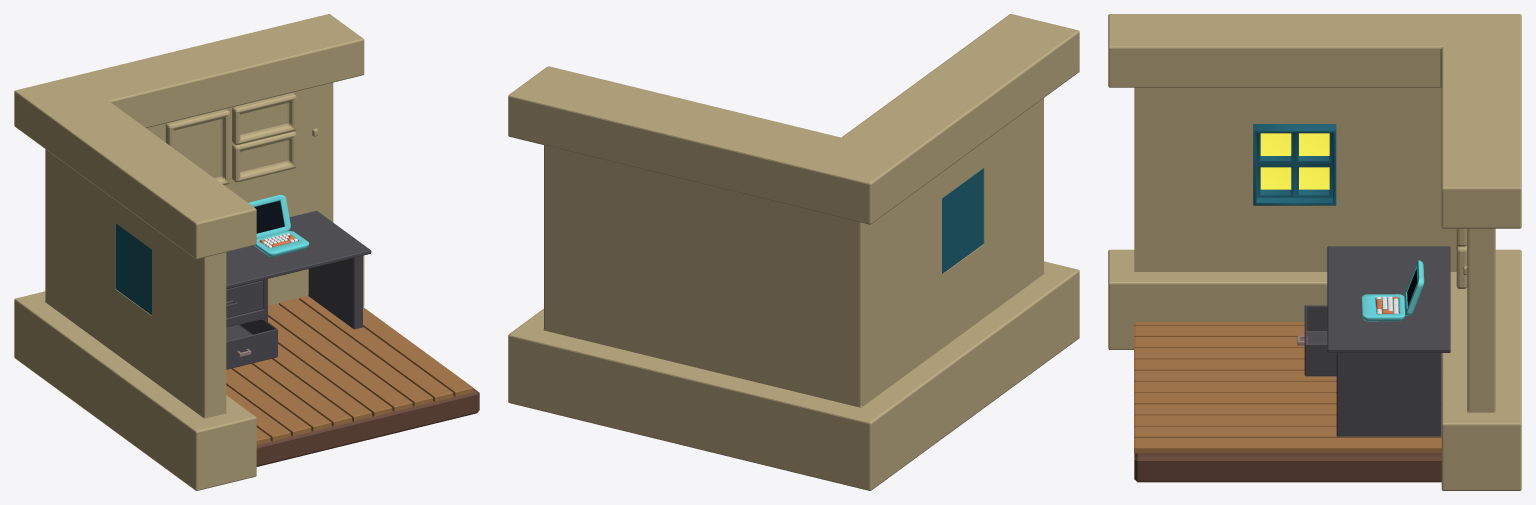
Rendered from room_v1.glb.
3 renders of one model, left to right at view 1: azimuth 30°, elevation 25°; view 2: azimuth 150°, elevation 25°; view 3: azimuth 270°, elevation 25°, orthographic. The views are drawn at different scales.
Visible parts, largest first — view 1: Cube, Plane.001, Plane.006, Plane, Cube.003, Cube.004, Cube.007, Cube.005, Plane.004, Plane.002, Plane.003; view 2: Cube, Cube.007; view 3: Cube, Plane.001, Plane.006, Plane, Cube.007, Plane.002, Plane.003, Cube.005.
Boxes of the visible parts, box(x1,y1,x2,y2) form: Cube: box(14, 14, 364, 490); Plane.001: box(226, 295, 473, 444); Plane.006: box(226, 210, 371, 369); Plane: box(256, 388, 479, 466); Cube.003: box(165, 109, 229, 185); Cube.004: box(232, 93, 296, 144); Cube.007: box(115, 223, 151, 315); Cube.005: box(232, 131, 296, 182); Plane.004: box(254, 200, 284, 233); Plane.002: box(254, 231, 309, 256); Plane.003: box(248, 195, 290, 238); Cube: box(508, 14, 1079, 490); Cube.007: box(942, 168, 983, 273); Cube: box(1108, 14, 1521, 490); Plane.001: box(1134, 322, 1441, 453); Plane.006: box(1304, 246, 1450, 436); Plane: box(1134, 453, 1441, 482); Cube.007: box(1253, 124, 1336, 205); Plane.002: box(1361, 294, 1405, 321); Plane.003: box(1404, 260, 1424, 315); Cube.005: box(1456, 244, 1467, 288).
Size of the model in its own units: 2.48 by 2.03 by 2.48.
